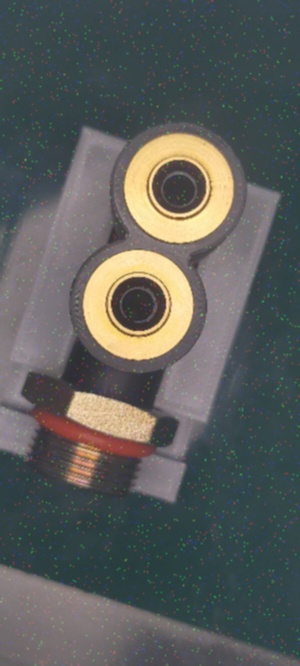white mark: (97, 376, 112, 395)
